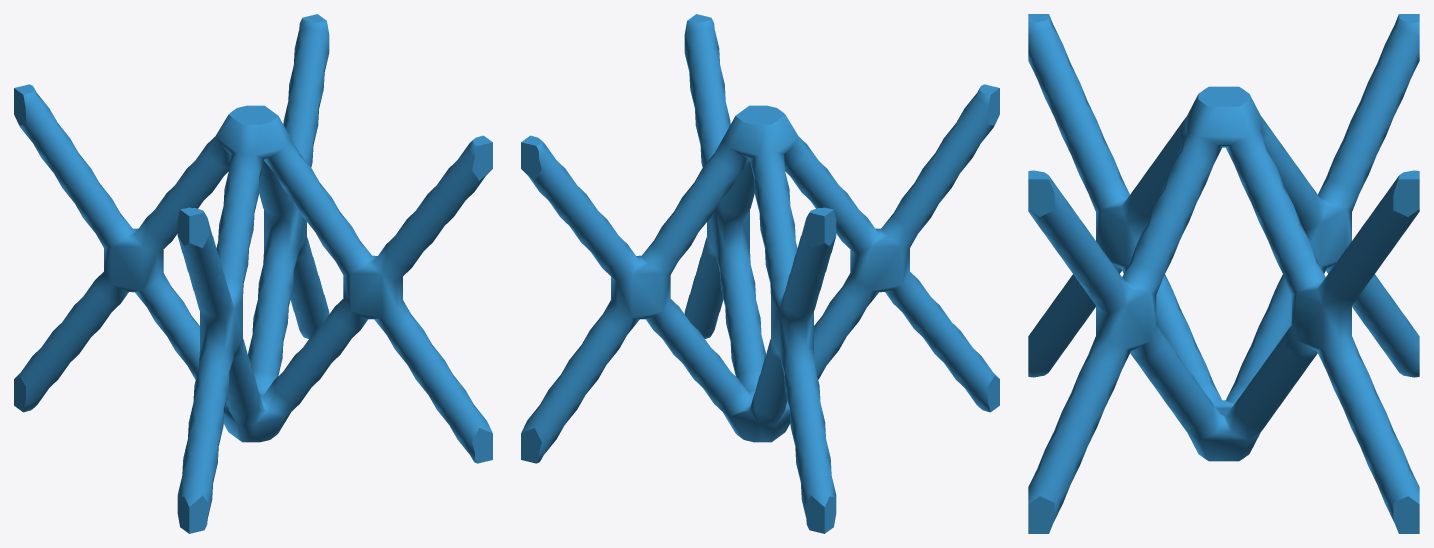
The model's file is Variation1.glb.
3 renders of one model, left to right at view 1: azimuth 30°, elevation 25°; view 2: azimuth 150°, elevation 25°; view 3: azimuth 270°, elevation 25°, orthographic. The views are drawn at different scales.
Parts seen in each view (by area): view 1: Mesh_0.005; view 2: Mesh_0.005; view 3: Mesh_0.005.
Part boxes in pixels (box(x1,y1,x2,y2)): Mesh_0.005: box(14, 14, 492, 533); Mesh_0.005: box(521, 14, 999, 533); Mesh_0.005: box(1028, 14, 1419, 533).
Bounding box in the file's own units: 1 × 1 × 1.
